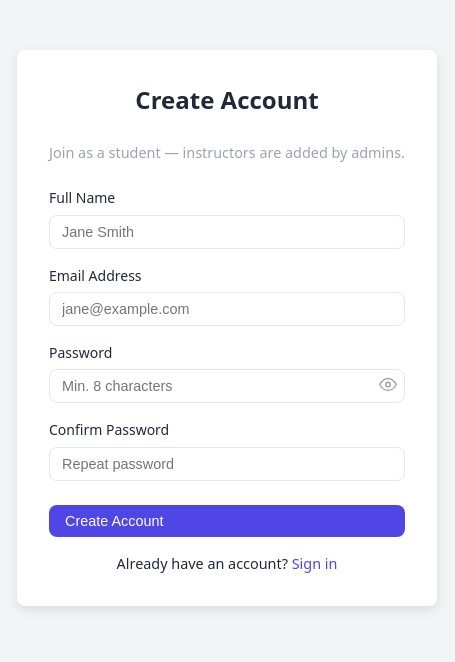
Scenario: RegisterPage › shows error when passwords do not match
This screenshot has width=455, height=662.
Type "Alice" into the field labelled "Full Name" at x=227, y=232, box [49,215,405,249]
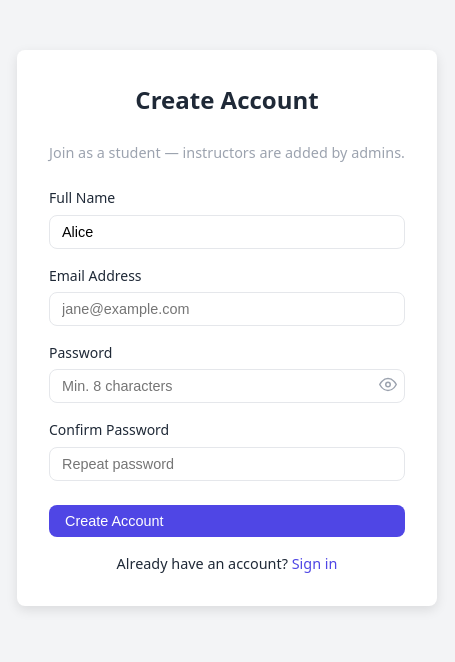
Type "a@b.com" into the field labelled "Email Address" at x=227, y=309, box [49,292,405,326]
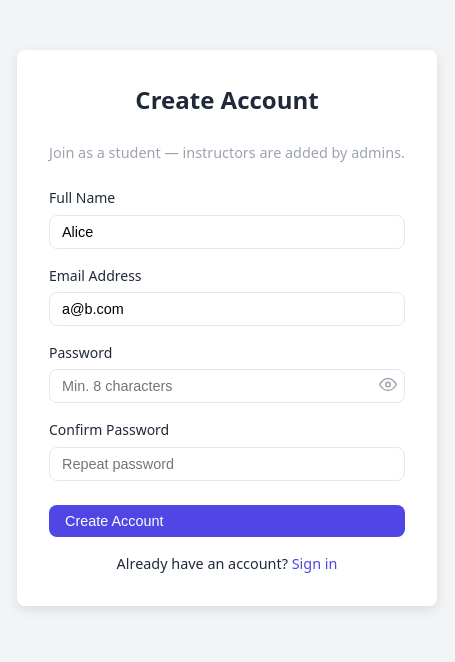
Type "Password1!" into the password field labelled "Password" at x=227, y=386, box [49,369,405,403]
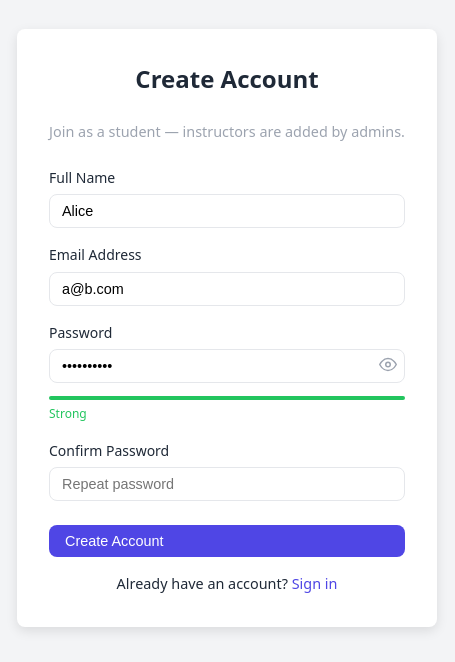
Type "Different1!" into the password field labelled "Confirm Password" at x=227, y=484, box [49,467,405,501]
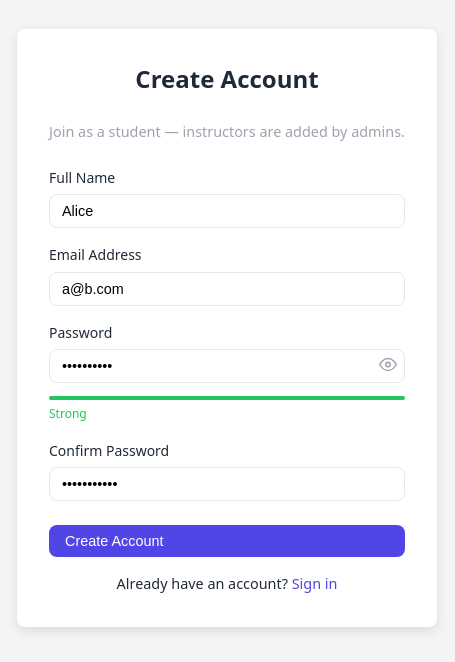
Click the button "Create Account" at x=114, y=541, box [49,525,405,557]
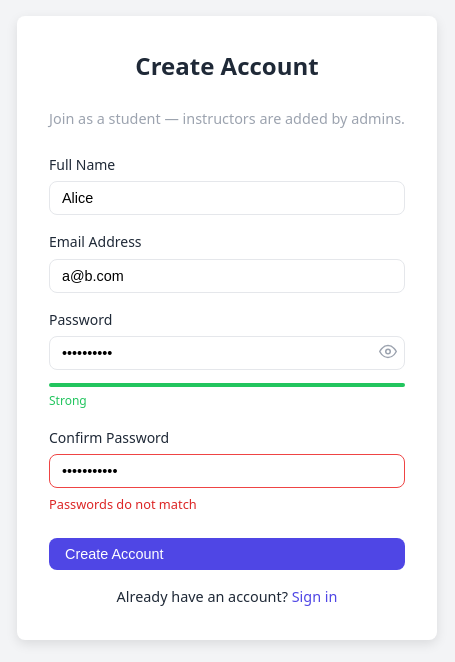
Result: the text "Passwords do not match" is shown at [49,495,197,513]
